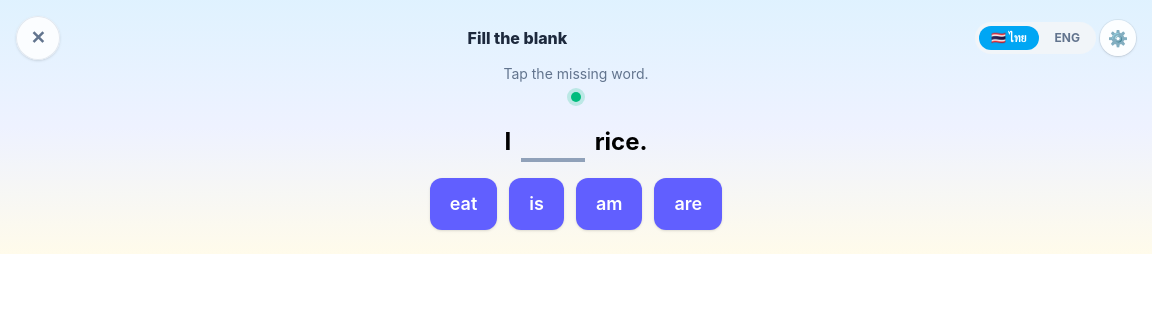
Test case: FillBlankScreen › shows Thai as first hint when L1 enabled and mode === TH (on a wrong tap)
The width and height of the screenshot is (1152, 315).
Click the button "is" at (537, 204), box [509,178,564,230]
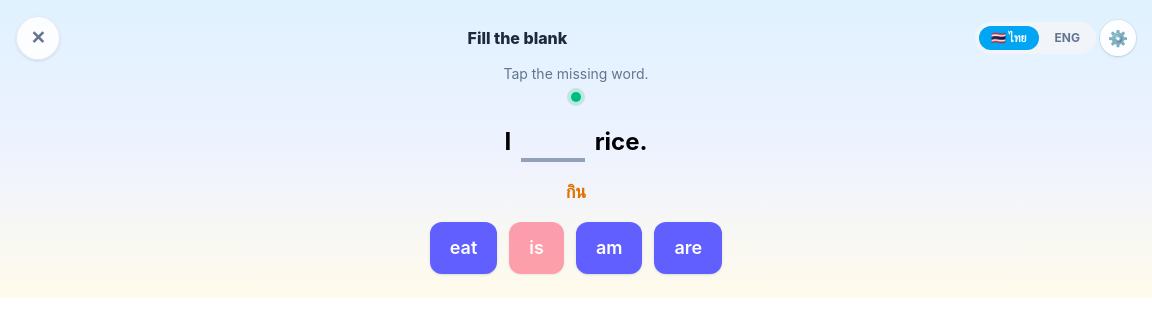
Expected: the text "กิน" is shown, [566,178,586,206]
